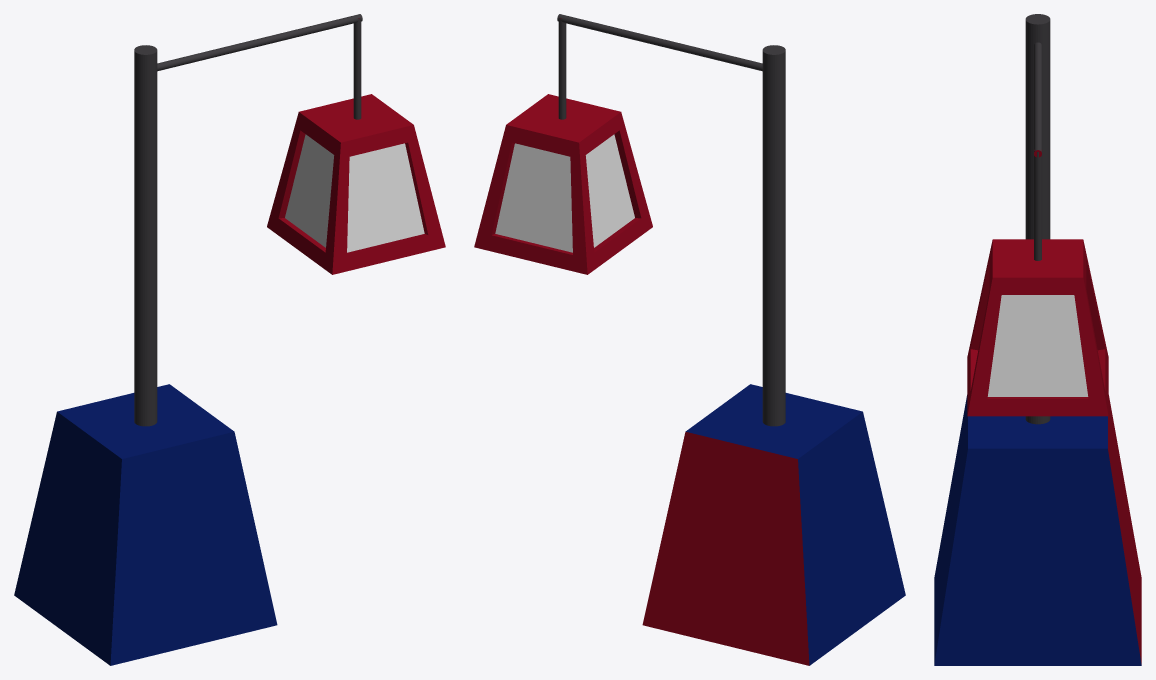
3 views of the same model, side by side, from view 1: azimuth 30°, elevation 25°; view 2: azimuth 150°, elevation 25°; view 3: azimuth 270°, elevation 25° (orthographic). The views are drawn at different scales.
Visible parts, largest first — view 1: 立方体.001; view 2: 立方体.001; view 3: 立方体.001.
Boxes of the visible parts, bbox=[...] form: 立方体.001: bbox=[14, 14, 445, 665]; 立方体.001: bbox=[474, 14, 905, 665]; 立方体.001: bbox=[934, 14, 1141, 665].
Bounding box in the file's own units: 50 × 160 × 105.
